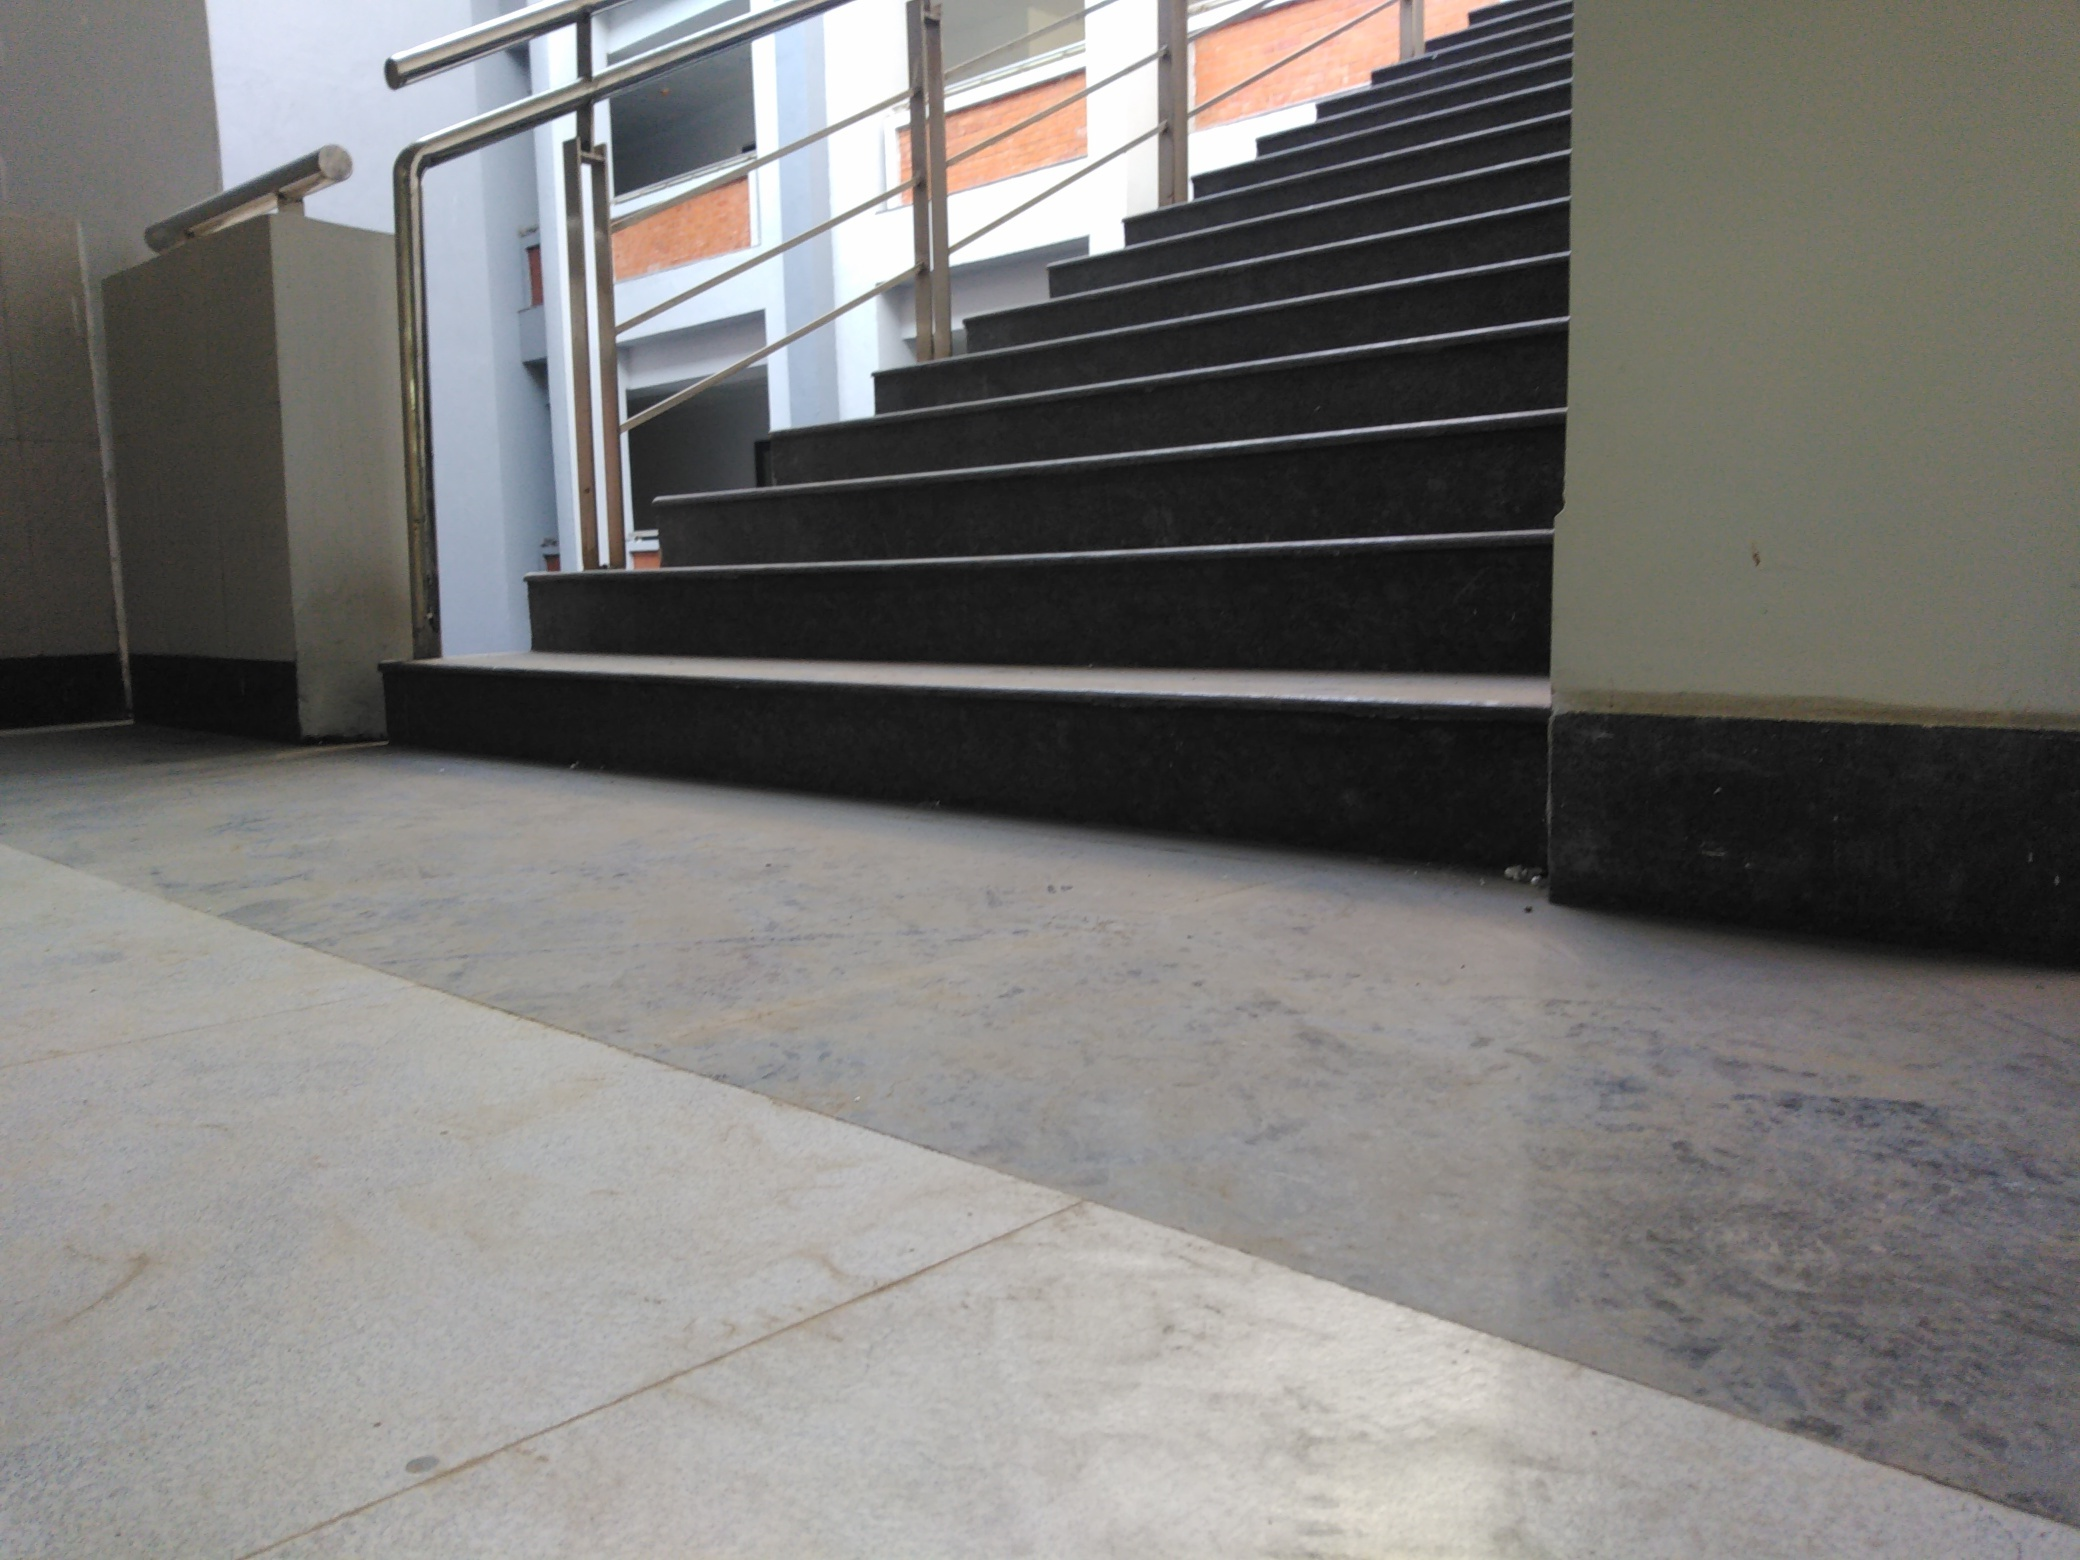stairs_up: (300, 20, 1558, 901)
